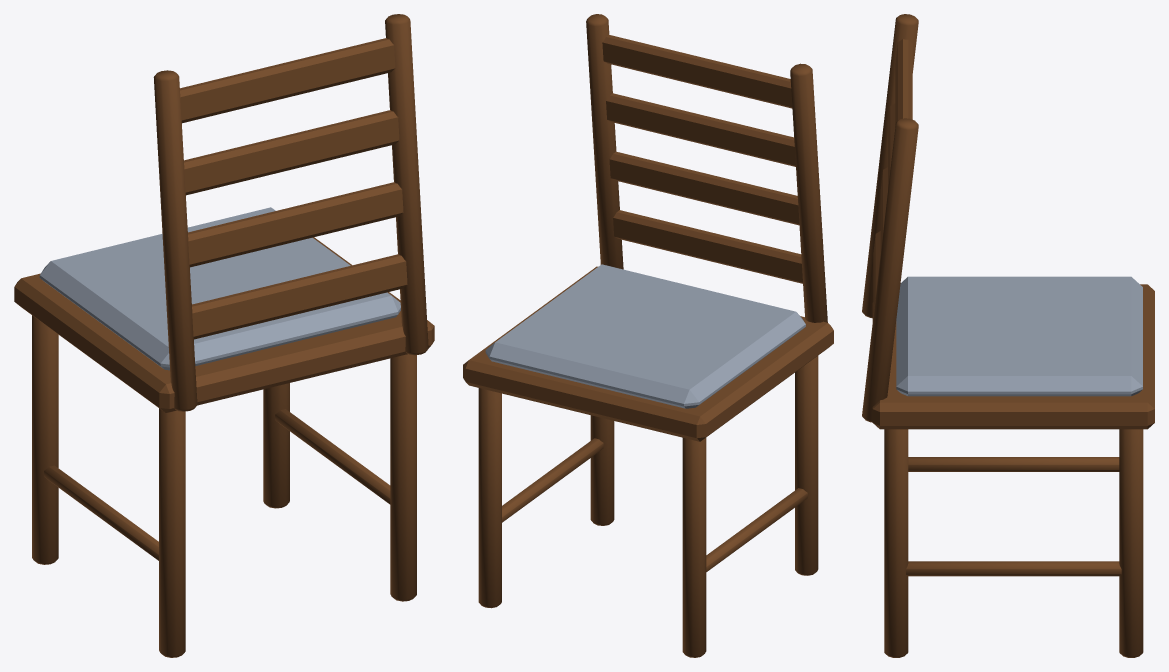
Rendered from prop_wood_chair.obj.
3 views of the same model, side by side, from view 1: azimuth 30°, elevation 25°; view 2: azimuth 150°, elevation 25°; view 3: azimuth 270°, elevation 25° (orthographic). The views are drawn at different scales.
Visible parts, largest first — view 1: Single_Cushion, Single_SeatFrame, Single_Post_-0.21, Single_Post_0.21, Single_Slat_0, Single_Slat_2, Single_Slat_1, Single_Slat_3, Single_Leg_-0.21_-0.2, Single_Leg_0.21_-0.2, Single_Leg_-0.21_0.2, Single_Leg_0.21_0.2 (+2 smaller); view 2: Single_Cushion, Single_SeatFrame, Single_Post_-0.21, Single_Slat_3, Single_Slat_1, Single_Slat_2, Single_Slat_0, Single_Leg_-0.21_0.2, Single_Leg_0.21_0.2, Single_Post_0.21, Single_Leg_-0.21_-0.2, Single_Leg_0.21_-0.2 (+2 smaller); view 3: Single_Cushion, Single_SeatFrame, Single_Post_0.21, Single_Leg_0.21_0.2, Single_Leg_0.21_-0.2, Single_SideBar_0.21, Single_SideBar_-0.21, Single_Post_-0.21, Single_Slat_3, Single_Slat_1.
Boxes of the visible parts, x1=… form: Single_Cushion: x1=39, y1=207, x2=400, y2=370; Single_SeatFrame: x1=14, y1=237, x2=434, y2=412; Single_Post_-0.21: x1=153, y1=70, x2=197, y2=411; Single_Post_0.21: x1=385, y1=14, x2=428, y2=355; Single_Slat_0: x1=192, y1=254, x2=407, y2=339; Single_Slat_2: x1=184, y1=110, x2=399, y2=195; Single_Slat_1: x1=188, y1=182, x2=403, y2=267; Single_Slat_3: x1=180, y1=38, x2=395, y2=123; Single_Leg_-0.21_-0.2: x1=159, y1=408, x2=185, y2=657; Single_Leg_0.21_-0.2: x1=390, y1=354, x2=416, y2=601; Single_Leg_-0.21_0.2: x1=32, y1=315, x2=58, y2=564; Single_Leg_0.21_0.2: x1=263, y1=383, x2=289, y2=508; Single_Cushion: x1=485, y1=264, x2=805, y2=408; Single_SeatFrame: x1=463, y1=266, x2=833, y2=441; Single_Post_-0.21: x1=790, y1=63, x2=827, y2=322; Single_Slat_3: x1=602, y1=34, x2=792, y2=108; Single_Slat_1: x1=609, y1=151, x2=799, y2=225; Single_Slat_2: x1=606, y1=93, x2=795, y2=166; Single_Slat_0: x1=613, y1=210, x2=802, y2=283; Single_Leg_-0.21_0.2: x1=682, y1=438, x2=706, y2=657; Single_Leg_0.21_0.2: x1=478, y1=388, x2=501, y2=608; Single_Post_0.21: x1=586, y1=14, x2=623, y2=269; Single_Leg_-0.21_-0.2: x1=795, y1=356, x2=818, y2=575; Single_Leg_0.21_-0.2: x1=590, y1=415, x2=614, y2=525; Single_Cushion: x1=896, y1=276, x2=1142, y2=396; Single_SeatFrame: x1=872, y1=284, x2=1154, y2=429; Single_Post_0.21: x1=862, y1=118, x2=918, y2=422; Single_Leg_0.21_0.2: x1=1119, y1=429, x2=1143, y2=657; Single_Leg_0.21_-0.2: x1=884, y1=429, x2=908, y2=657; Single_SideBar_0.21: x1=906, y1=561, x2=1121, y2=576; Single_SideBar_-0.21: x1=908, y1=457, x2=1119, y2=471; Single_Post_-0.21: x1=862, y1=14, x2=918, y2=318; Single_Slat_3: x1=895, y1=39, x2=912, y2=125; Single_Slat_1: x1=880, y1=167, x2=887, y2=252.
Bounding box in the file's own units: 0.5 × 1 × 0.4981.
